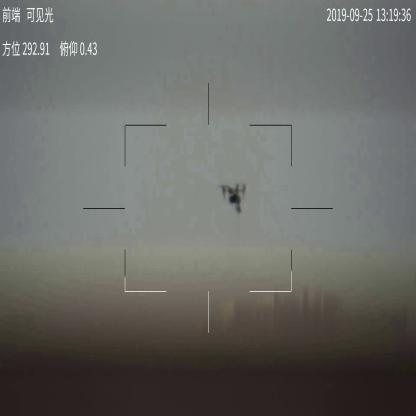uav: (221, 182, 249, 214)
